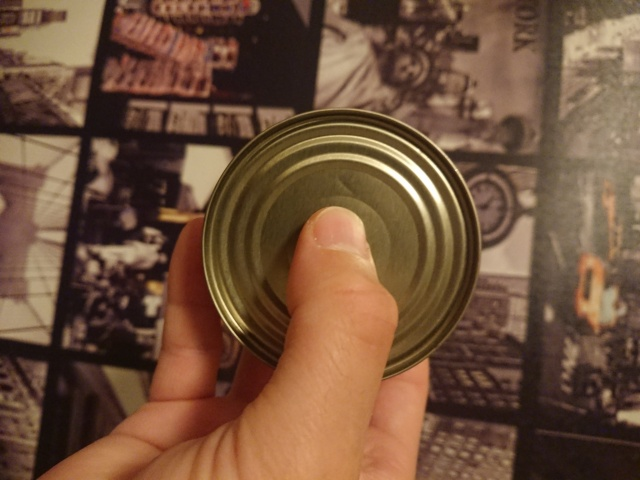Podravka Luncheon Meat 150g: (198, 103, 487, 385)
